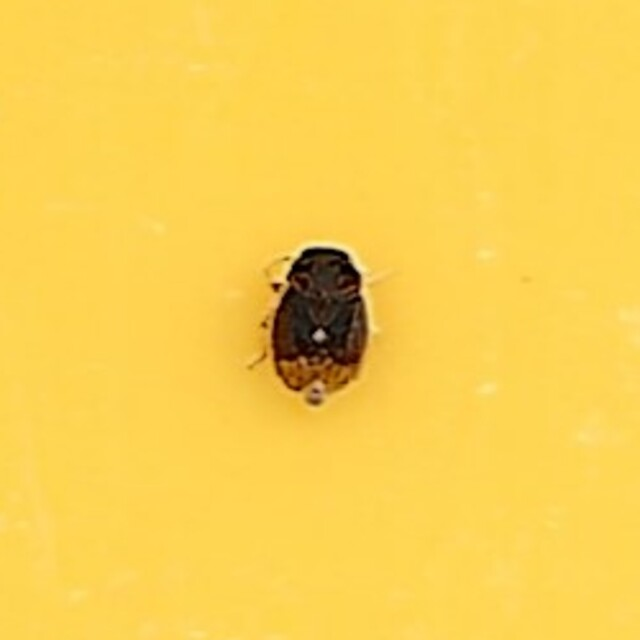Hemiptera: (256, 229, 384, 411)
